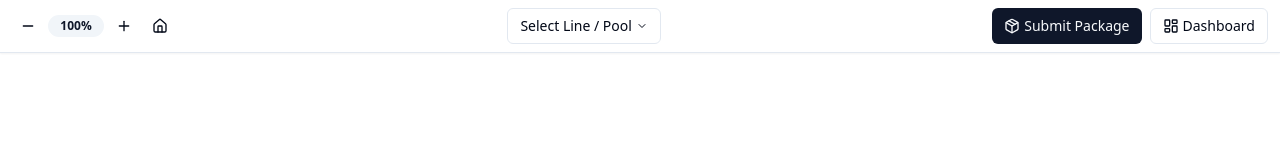
Test: FactoryToolbar › shows "No lines or pools available" when none exist
Click the button with test id "entity-selector-btn" at point(584, 26), box x1=507 y1=8 x2=661 y2=44
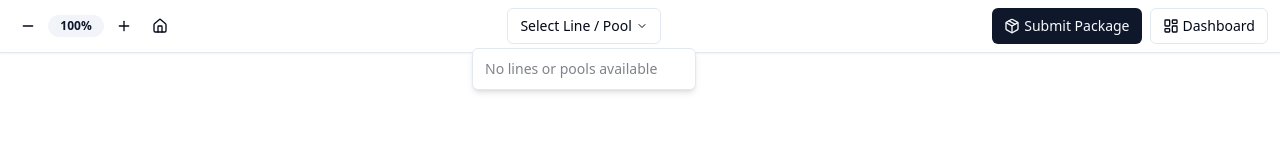
Expected: the menu item "No lines or pools available" is shown, x1=485 y1=59 x2=657 y2=78
